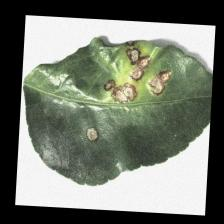canker: (72, 40, 176, 158)
